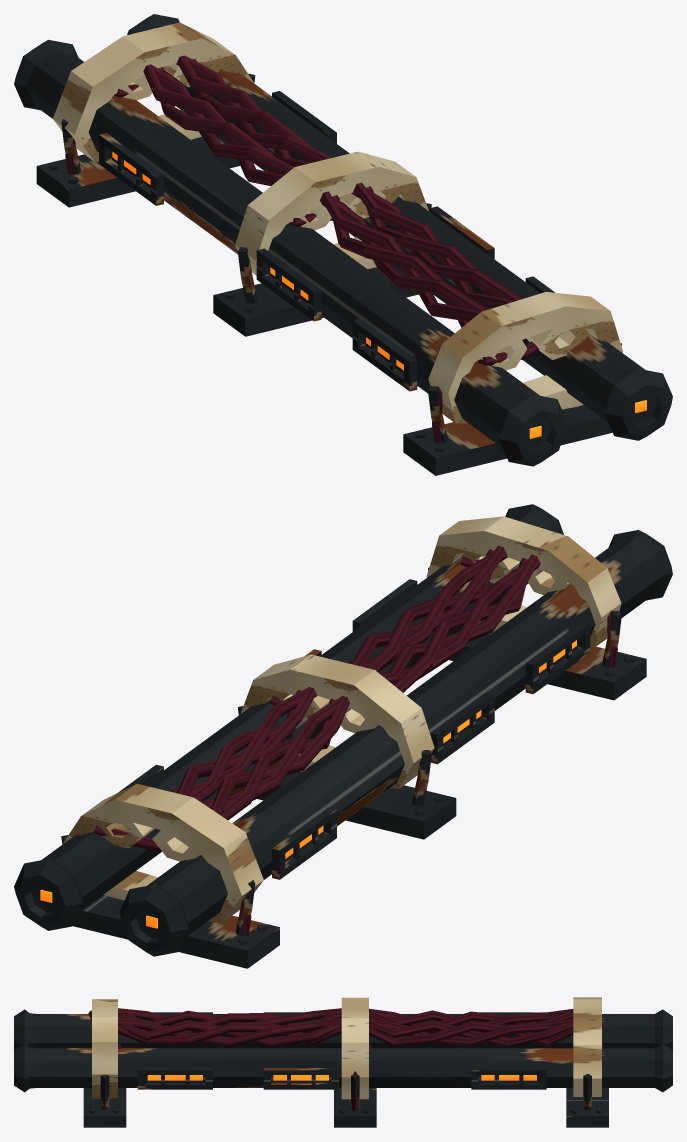
File: conduit.glb
The picture shows the model from 3 angles, top to bottom: view 1: azimuth 30°, elevation 25°; view 2: azimuth 150°, elevation 25°; view 3: azimuth 270°, elevation 25°; orthographic projection. The views are drawn at different scales.
Parts seen in each view (by area): view 1: conduit; view 2: conduit; view 3: conduit.
Part boxes in pixels (x1,y1,x2,y2): conduit: (14, 14, 672, 475); conduit: (14, 504, 672, 968); conduit: (14, 997, 672, 1127).
Bounding box in the file's own units: 0.98 × 0.585 × 4.03.
Materials: 2 (2 with a texture image).
